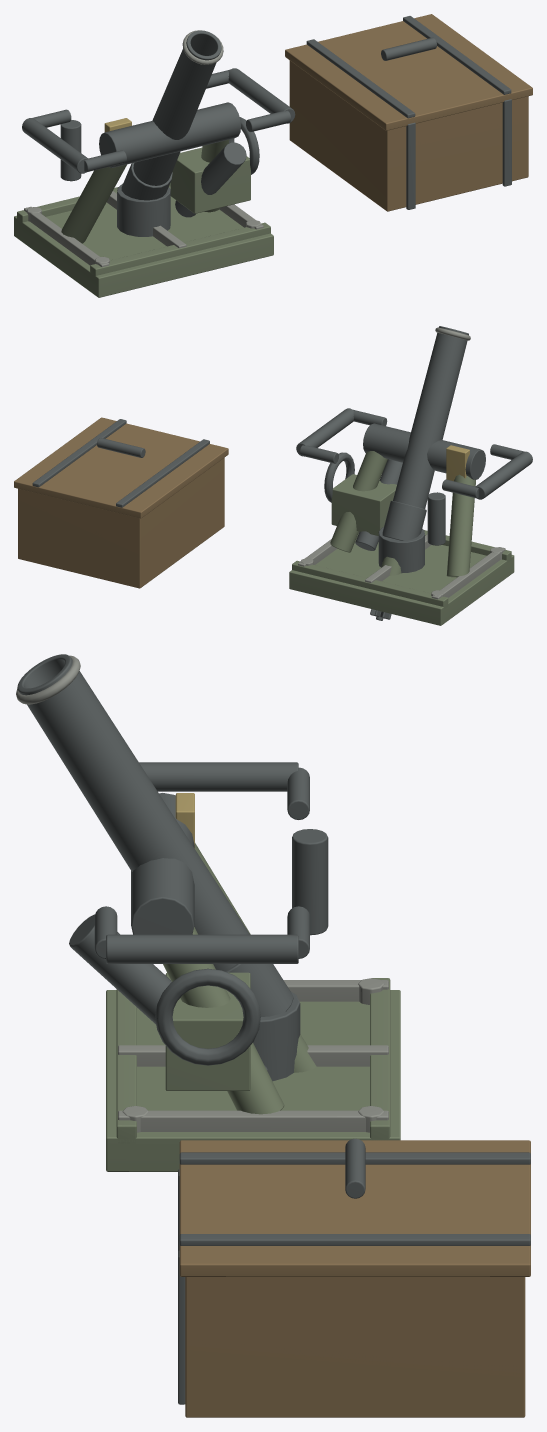
File: mortar46.glb
3 renders of one model, top to bottom at view 1: azimuth 30°, elevation 25°; view 2: azimuth 150°, elevation 25°; view 3: azimuth 270°, elevation 25°, orthographic. The views are drawn at different scales.
Parts seen in each view (by area): view 1: wooden_chest, chest_lid, baseplate, mortar_tube, mount_trunnion, range_regulator, short_mount_arm, baseplate_flange.001, ball_socket, gas_regulator_tube, carry_handle, carry_handle.001 (+17 smaller); view 2: wooden_chest, chest_lid, baseplate, mortar_tube, mount_trunnion, range_regulator, short_mount_arm, short_mount_arm.001, baseplate_flange, ball_socket, breech_cap, carry_handle (+14 smaller); view 3: wooden_chest, chest_lid, baseplate, mortar_tube, carry_handle.001, range_regulator, mount_trunnion, pressed_baseplate_rib.002, range_dial, carry_handle, steel_chest_band, steel_chest_band.002 (+14 smaller).
Boxes of the visible parts, x1,y1,x2,y2 form: wooden_chest: (289,60,528,211); chest_lid: (285,14,532,130); baseplate: (14,186,273,297); mortar_tube: (133,30,221,185); mount_trunnion: (99,102,240,167); range_regulator: (170,147,250,213); short_mount_arm: (61,164,126,243); baseplate_flange.001: (90,222,270,276); ball_socket: (117,183,170,236); gas_regulator_tube: (175,142,246,217); carry_handle: (22,118,88,173); carry_handle.001: (228,68,295,123); wooden_chest: (18,458,224,588); chest_lid: (14,417,228,518); baseplate: (289,533,514,625); mortar_tube: (393,326,468,508); mount_trunnion: (363,423,485,479); range_regulator: (331,474,396,535); short_mount_arm: (446,474,475,577); short_mount_arm.001: (330,451,387,552); baseplate_flange: (292,560,448,609); ball_socket: (378,527,424,573); breech_cap: (382,500,426,540); carry_handle: (475,451,532,499); wooden_chest: (185,1277,525,1417); chest_lid: (179,1140,530,1276); baseplate: (106,990,400,1171); mortar_tube: (17,654,249,971); carry_handle.001: (106,934,298,963); range_regulator: (165,972,250,1090); mount_trunnion: (131,793,194,934); pressed_baseplate_rib.002: (118,1110,388,1131); range_dial: (155,968,260,1065); carry_handle: (139,762,298,791); steel_chest_band: (179,1152,530,1164); steel_chest_band.002: (179,1234,530,1245).
Bounding box in the file's own units: 0.843 × 0.4765 × 0.4545.
